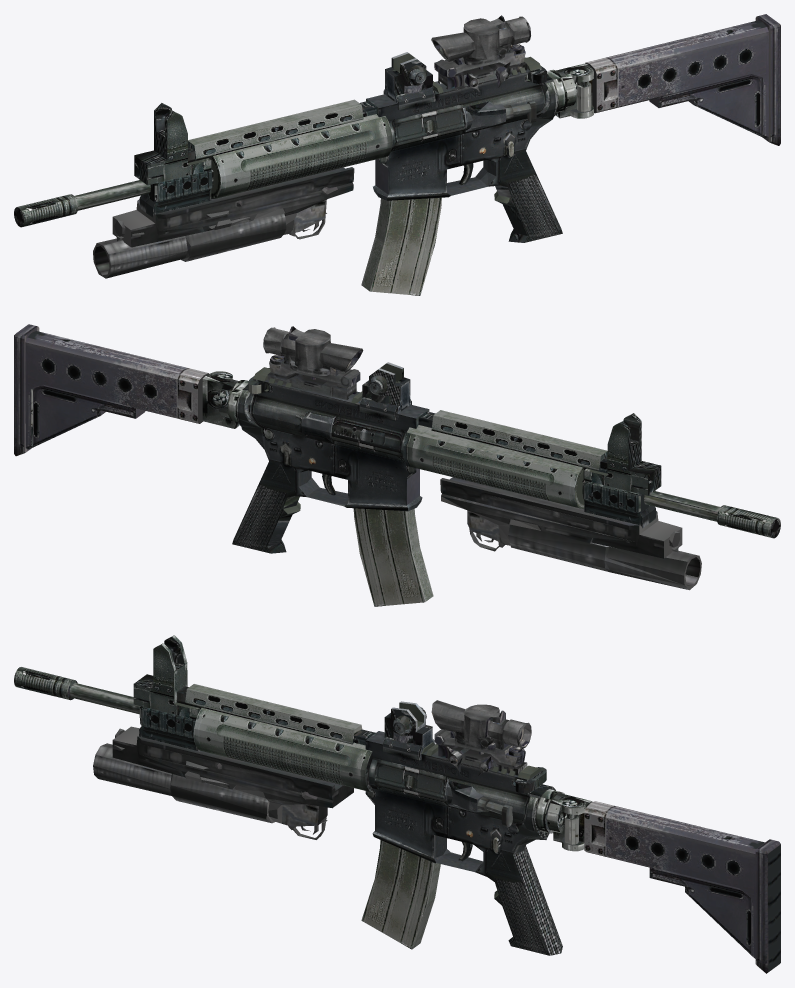
File: w_lr300_susat_gl.obj
3 renders of one model, top to bottom at view 1: azimuth 30°, elevation 25°; view 2: azimuth 150°, elevation 25°; view 3: azimuth 330°, elevation 25°, orthographic.
Parts seen in each view (by area): view 1: Lr300, W_Gl5040, W_Susat; view 2: Lr300, W_Gl5040, W_Susat; view 3: Lr300, W_Gl5040, W_Susat.
Part boxes in pixels (x1,y1,x2,y2): Lr300: (14,14,780,295); W_Gl5040: (93,167,354,278); W_Susat: (431,15,530,91); Lr300: (14,324,780,606); W_Gl5040: (440,477,701,590); W_Susat: (263,326,363,399); Lr300: (14,635,780,973); W_Gl5040: (93,726,353,839); W_Susat: (431,700,531,776).
Bounding box in the file's own units: 13.72 × 4.45 × 0.9057.
